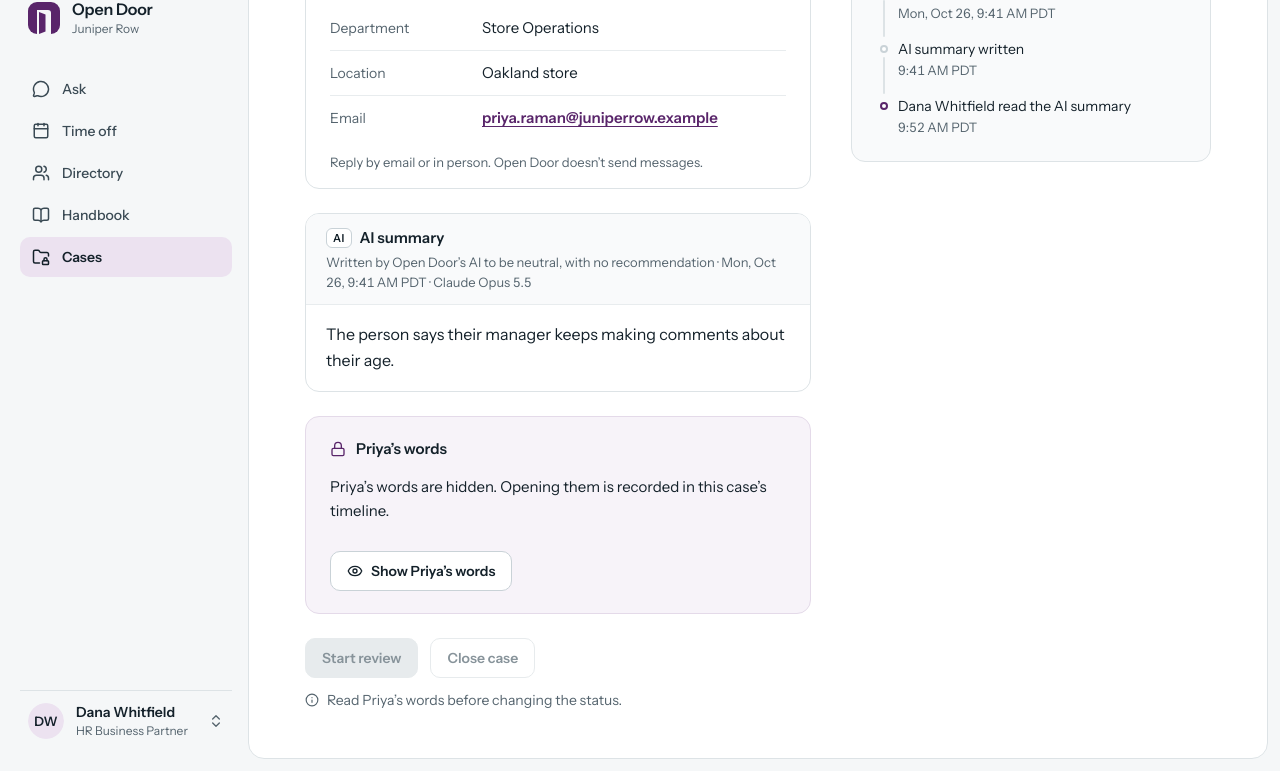
Test case: changing the status › Start review confirms, changes the status once, and moves focus to Close case
(page scrolled)
Expected: the text "The person says their manager keeps making comments about their age." is shown, [326, 321, 790, 373]
Click the button "Show Priya’s words" at (421, 571), box [330, 551, 512, 591]
(page scrolled)
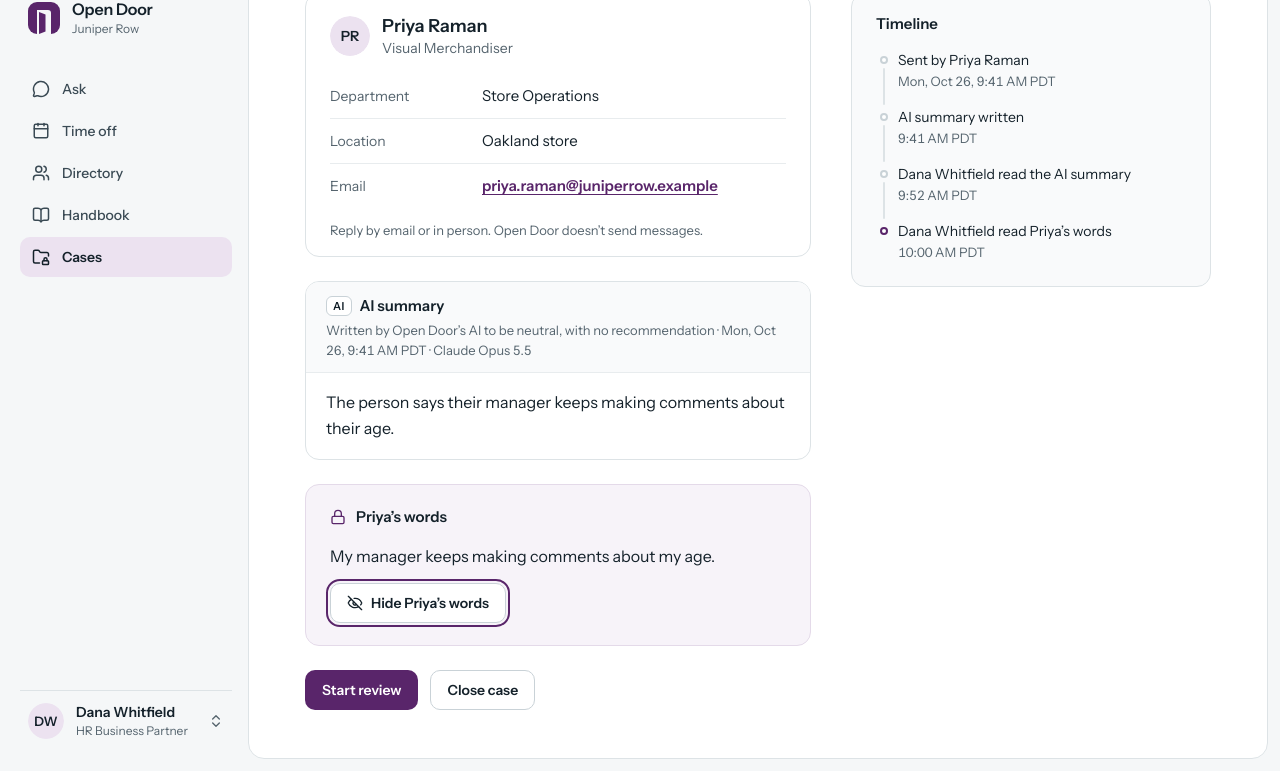
Now the text "My manager keeps making comments about my age." is shown, box [330, 546, 715, 566]
Click the button "Start review" at (362, 690), box [305, 670, 418, 710]
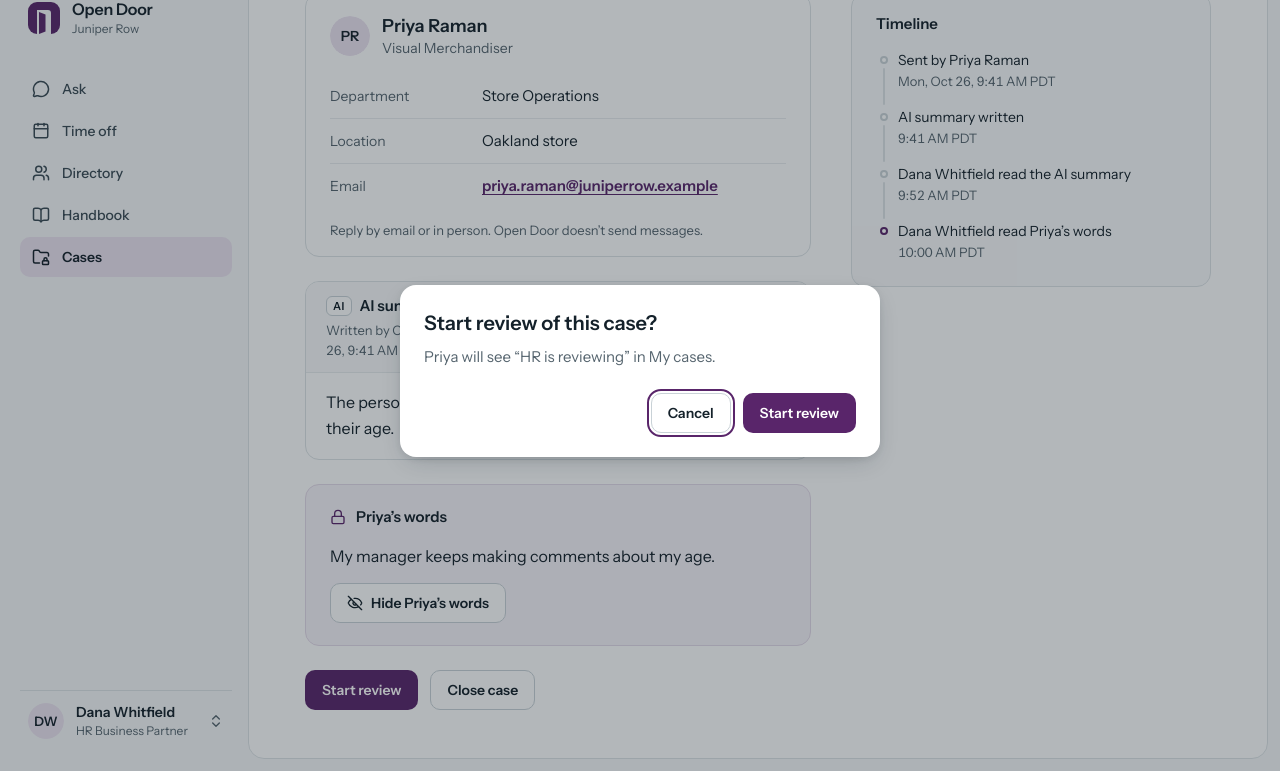
Click the button "Start review" at (799, 413), box [743, 393, 856, 433]
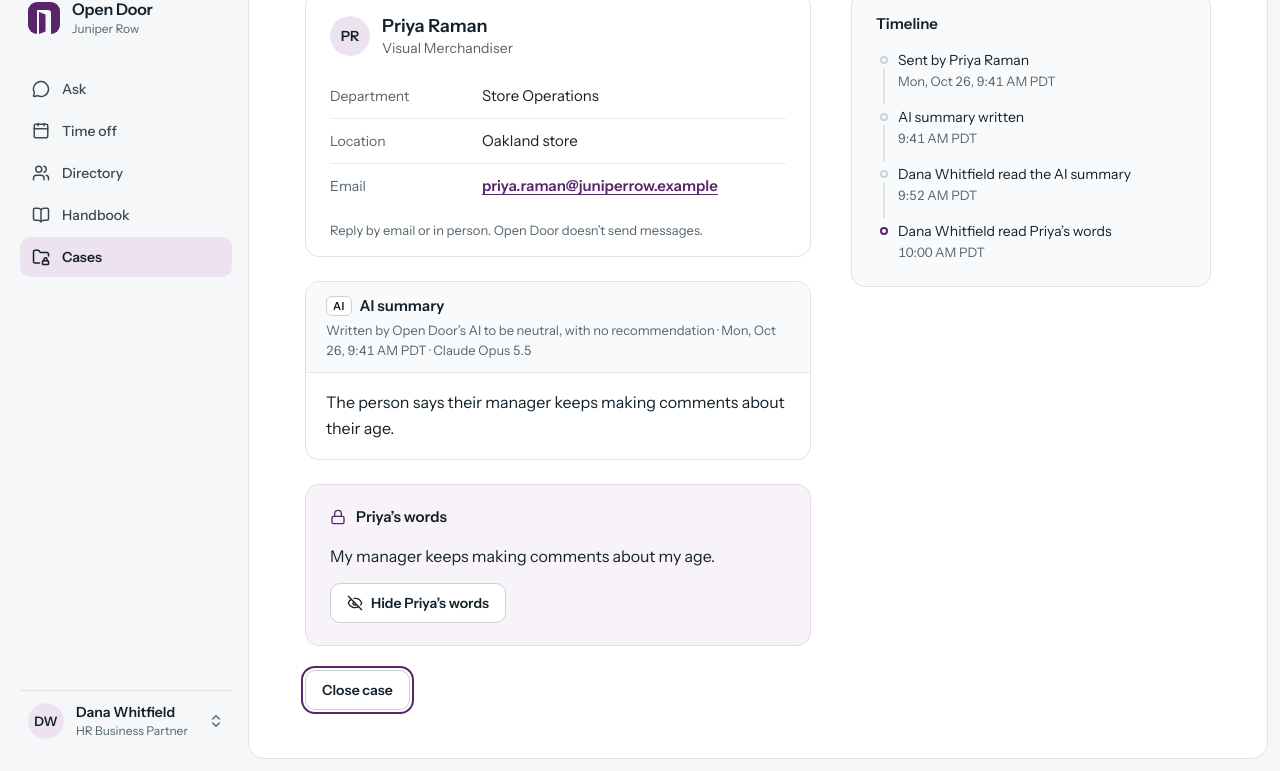
Now the dialog is gone
Now the button "Start review" is gone
